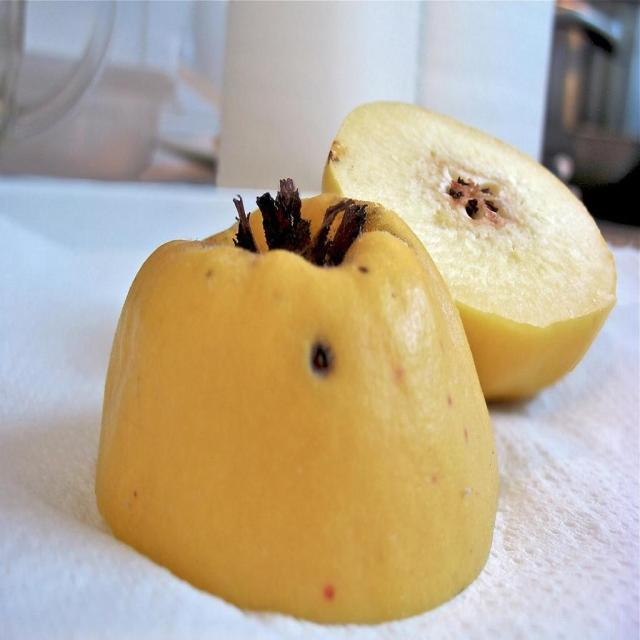Pear: (95, 178, 499, 626), (321, 101, 618, 402)
